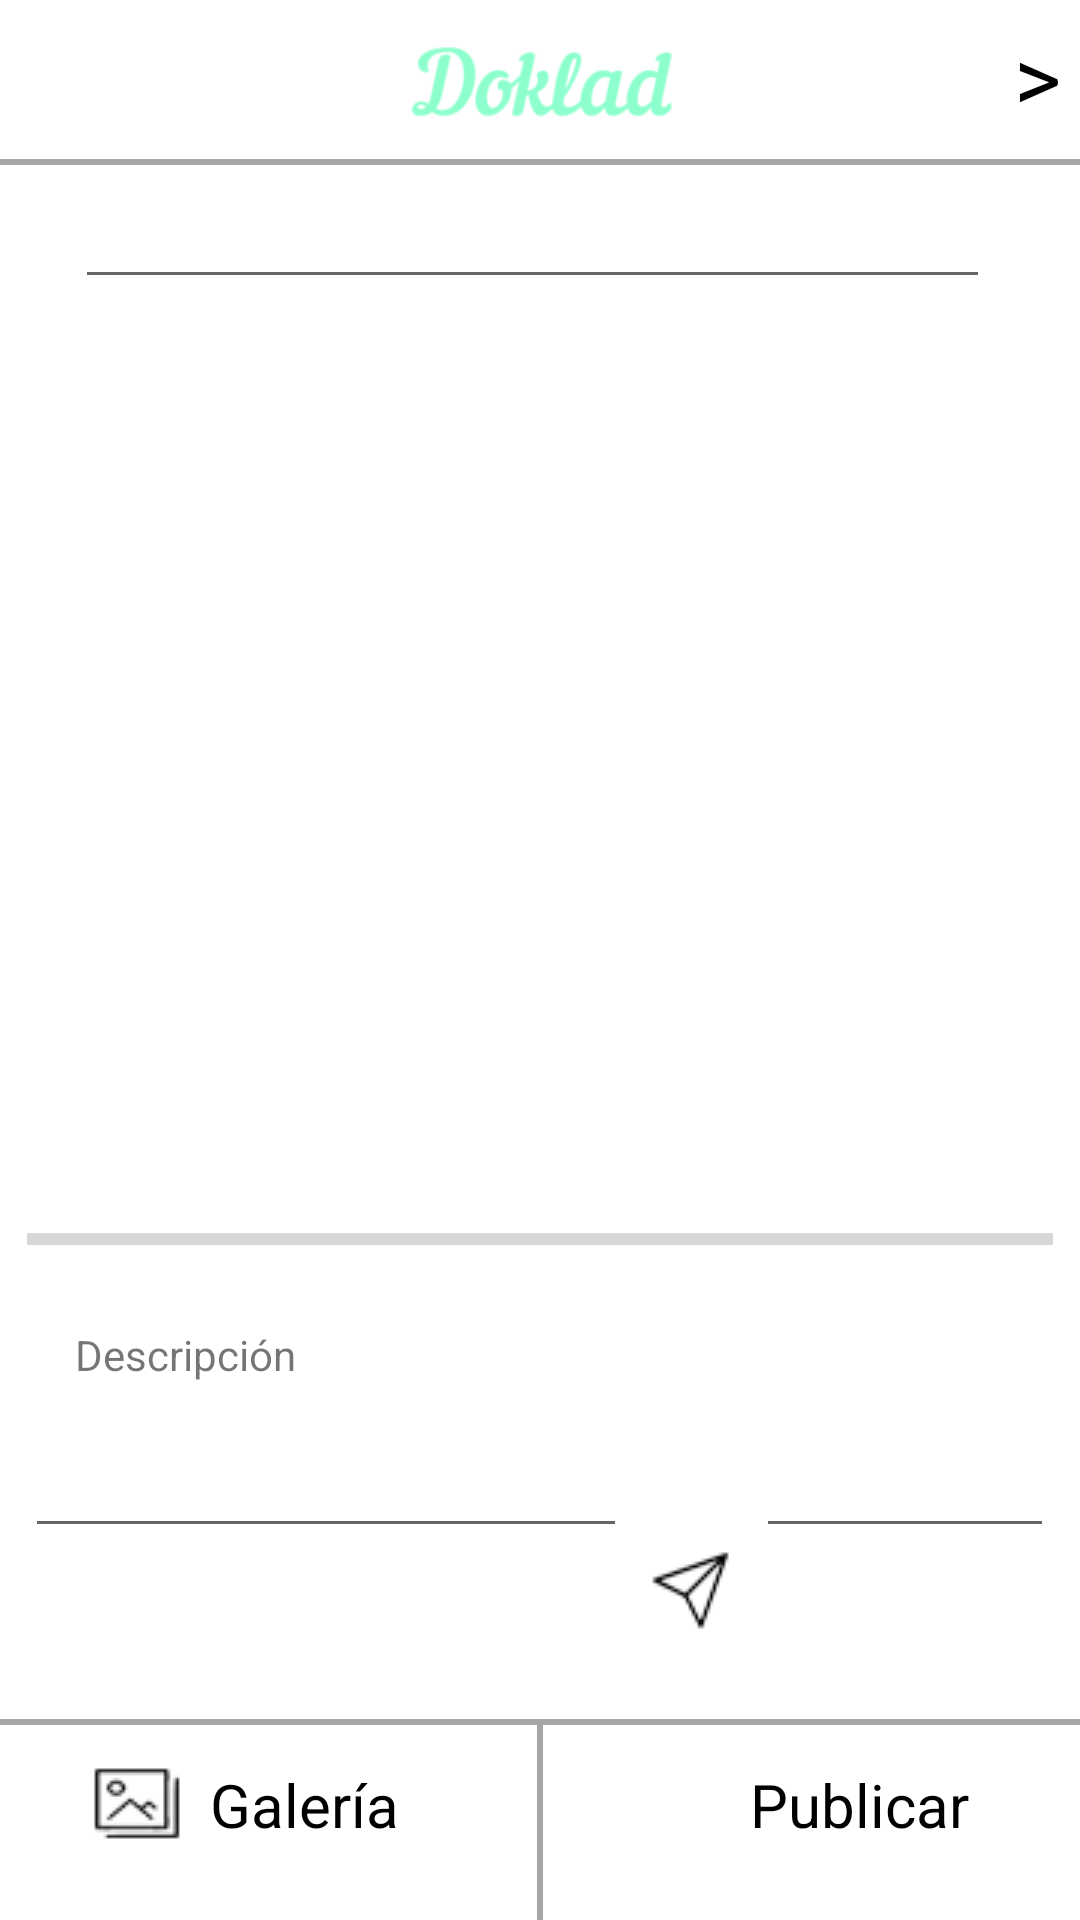

Icons on this 1080*1920 Android screen, each with its box as (x1, y1, x2, y2):
galeria: (94, 1768, 180, 1839)
send: (652, 1552, 729, 1629)
